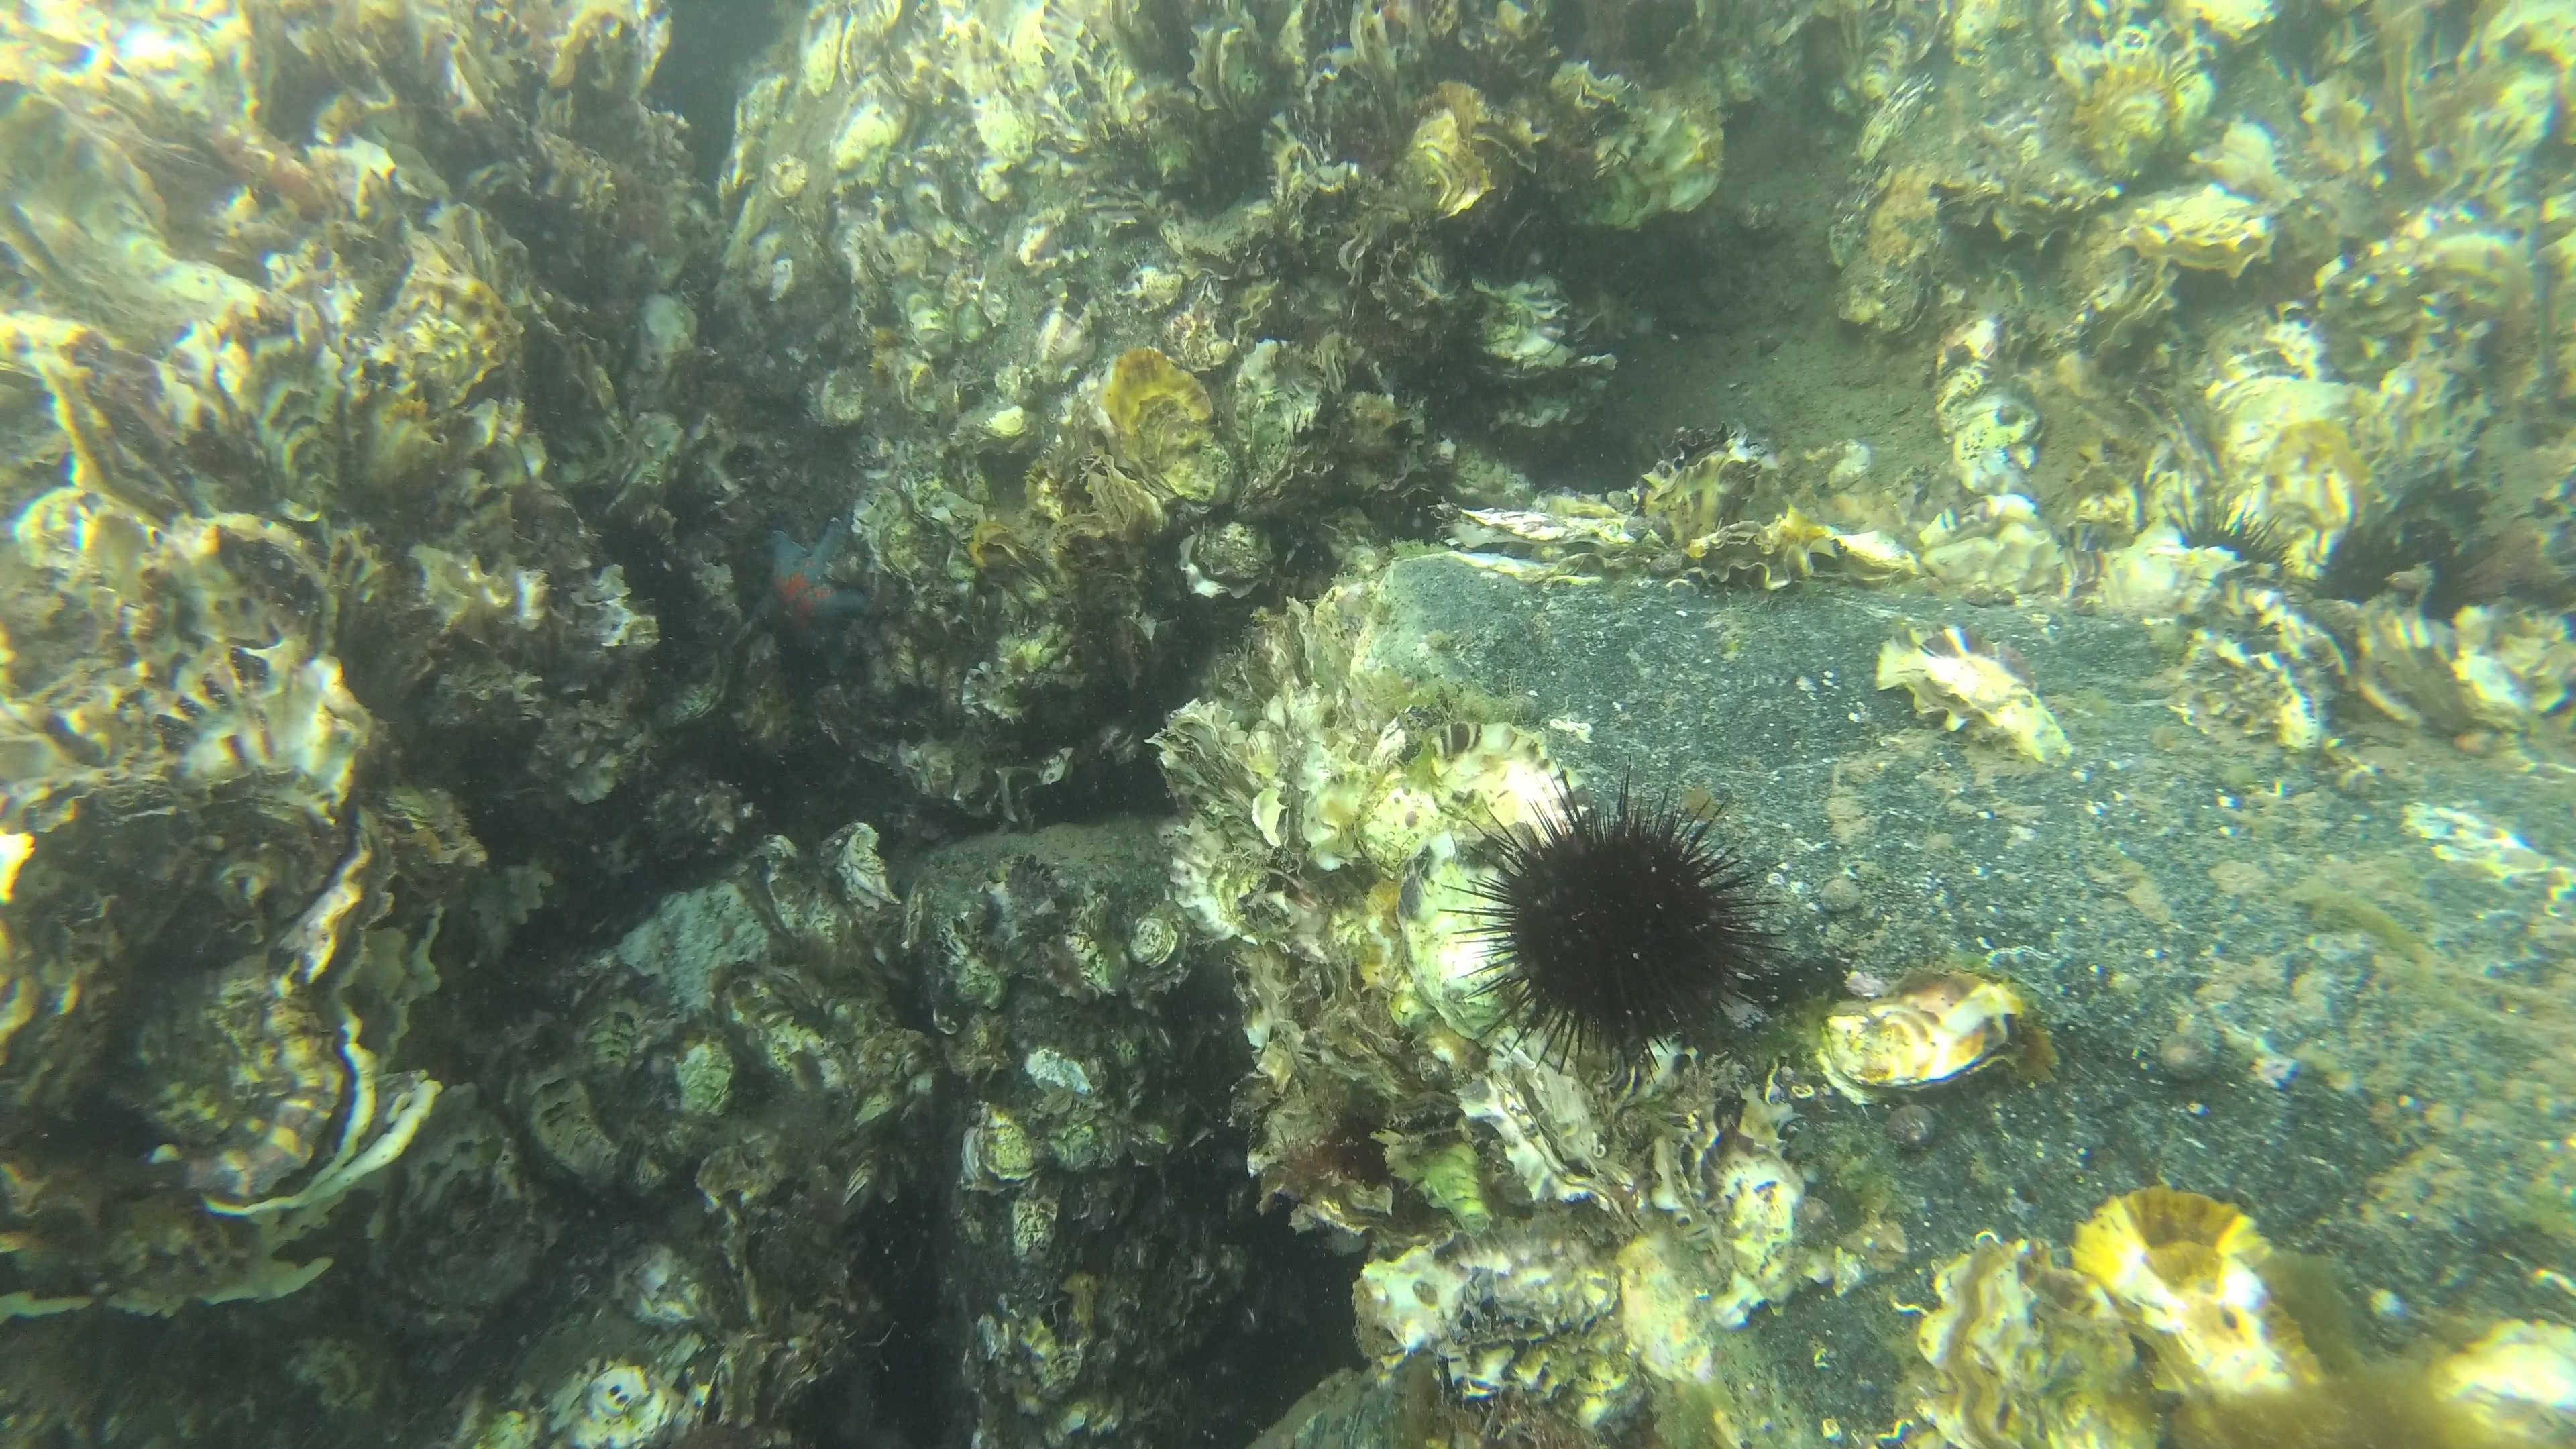echinus: (1465, 784, 1796, 1088)
starfish: (747, 511, 869, 695)
